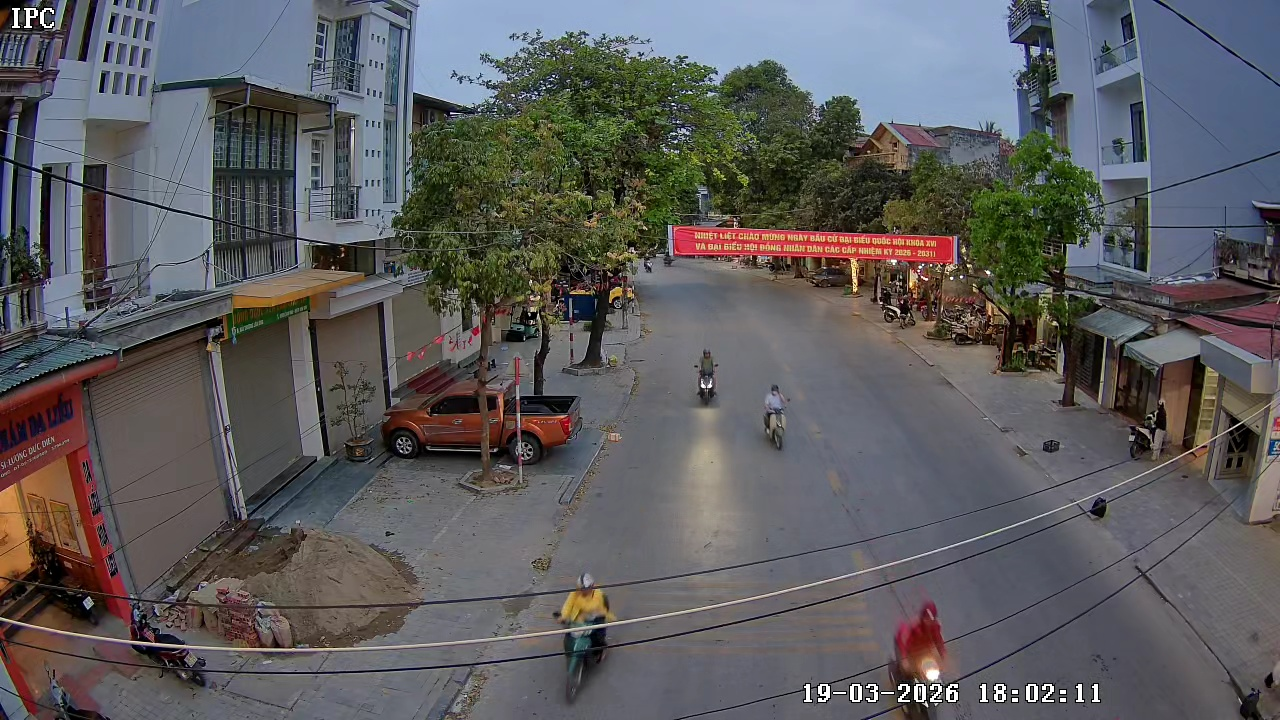motorbike: (884, 597, 960, 719), (551, 571, 616, 704), (760, 381, 792, 451), (692, 347, 720, 406)
truck: (379, 372, 582, 460)
